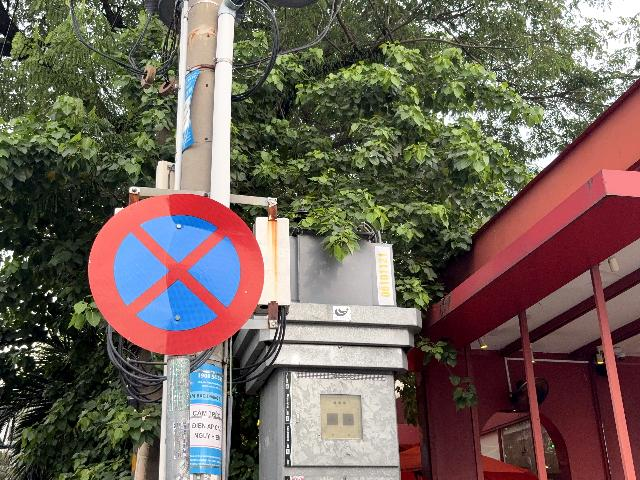cam-dung-va-do-xe: (88, 194, 264, 355)
